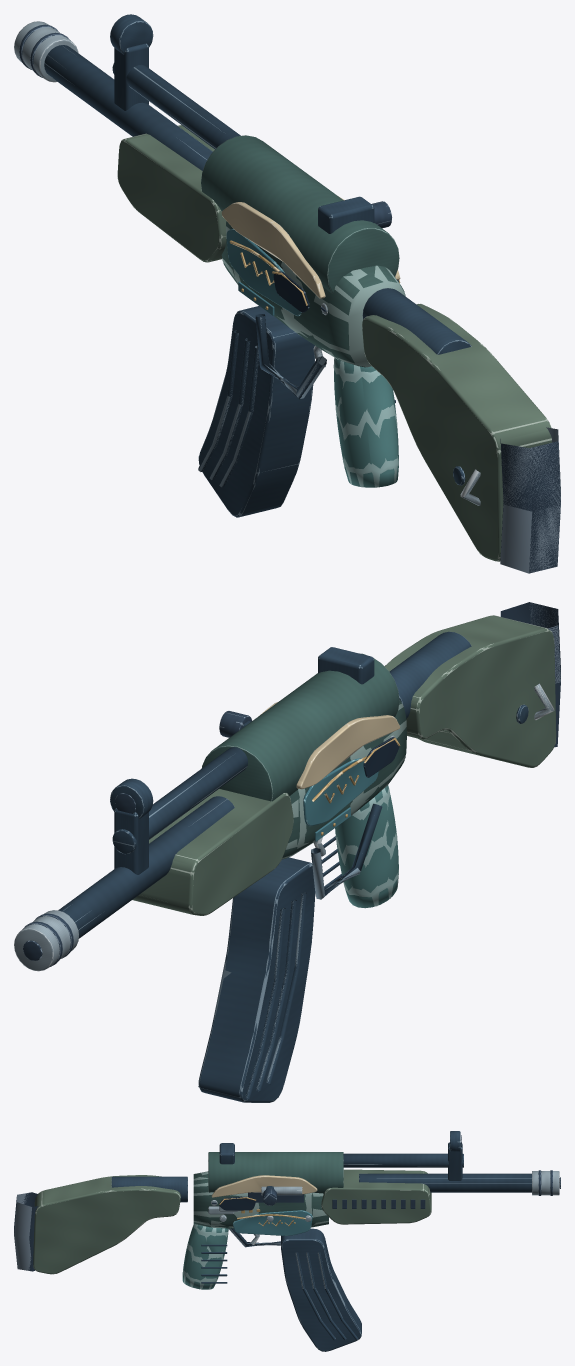
Rendered from anime-galil.glb.
3 views of the same model, one above another, from view 1: azimuth 30°, elevation 25°; view 2: azimuth 150°, elevation 25°; view 3: azimuth 270°, elevation 25° (orthographic). The views are drawn at different scales.
Visible parts, largest first — view 1: weapon_Parkerized steel, weapon_Weapon finish / Walnut laminate, weapon_Weapon finish / Parkerized steel, World hardware, weapon_Polymer, weapon_Walnut laminate, World paint, weapon_Weapon finish / Ivory enamel, weapon_Inset blue ceramic, magazine_Parkerized steel, weapon_Machined edges, weapon_Recessed graphite mechanism; view 2: weapon_Parkerized steel, weapon_Weapon finish / Walnut laminate, weapon_Weapon finish / Parkerized steel, World hardware, weapon_Walnut laminate, magazine_Parkerized steel, weapon_Weapon finish / Ivory enamel, weapon_Inset blue ceramic, weapon_Polymer, weapon_Machined edges, World paint, weapon_Recessed graphite mechanism; view 3: weapon_Weapon finish / Walnut laminate, weapon_Parkerized steel, weapon_Weapon finish / Parkerized steel, World hardware, weapon_Walnut laminate, weapon_Polymer, weapon_Inset blue ceramic, World paint, weapon_Weapon finish / Ivory enamel, weapon_Machined edges, magazine_Parkerized steel, weapon_Recessed graphite mechanism (+2 smaller).
Part boxes in pixels (x1,y1,x2,y2): weapon_Parkerized steel: (44, 14, 471, 517); weapon_Weapon finish / Walnut laminate: (117, 125, 551, 561); weapon_Weapon finish / Parkerized steel: (201, 135, 404, 367); World hardware: (14, 14, 560, 573); weapon_Polymer: (19, 24, 560, 573); weapon_Walnut laminate: (334, 358, 398, 487); World paint: (117, 125, 551, 561); weapon_Weapon finish / Ivory enamel: (221, 196, 399, 298); weapon_Inset blue ceramic: (226, 228, 301, 316); magazine_Parkerized steel: (198, 330, 258, 487); weapon_Machined edges: (14, 21, 480, 505); weapon_Recessed graphite mechanism: (273, 271, 398, 312); weapon_Parkerized steel: (58, 631, 528, 1102); weapon_Weapon finish / Walnut laminate: (132, 615, 556, 915); weapon_Weapon finish / Parkerized steel: (202, 654, 406, 859); World hardware: (14, 603, 560, 1102); weapon_Walnut laminate: (335, 785, 398, 908); magazine_Parkerized steel: (198, 892, 306, 1099); weapon_Weapon finish / Ivory enamel: (258, 702, 399, 789); weapon_Inset blue ceramic: (303, 758, 378, 841); weapon_Polymer: (22, 602, 560, 966); weapon_Machined edges: (14, 683, 553, 970); World paint: (139, 615, 555, 915); weapon_Recessed graphite mechanism: (363, 737, 399, 777); weapon_Weapon finish / Walnut laminate: (33, 1169, 431, 1274); weapon_Parkerized steel: (111, 1131, 531, 1351); weapon_Weapon finish / Parkerized steel: (193, 1152, 343, 1228); World hardware: (14, 1131, 560, 1351); weapon_Walnut laminate: (182, 1224, 228, 1289); weapon_Polymer: (14, 1135, 560, 1271); weapon_Inset blue ceramic: (233, 1210, 312, 1235); World paint: (33, 1152, 431, 1274); weapon_Weapon finish / Ivory enamel: (211, 1175, 317, 1197); weapon_Machined edges: (208, 1171, 559, 1221); magazine_Parkerized steel: (296, 1252, 358, 1340); weapon_Recessed graphite mechanism: (219, 1196, 255, 1210).
Bounding box in the file's own units: 0.1331 × 0.4032 × 0.931.
Materials: 12 (10 with a texture image).
